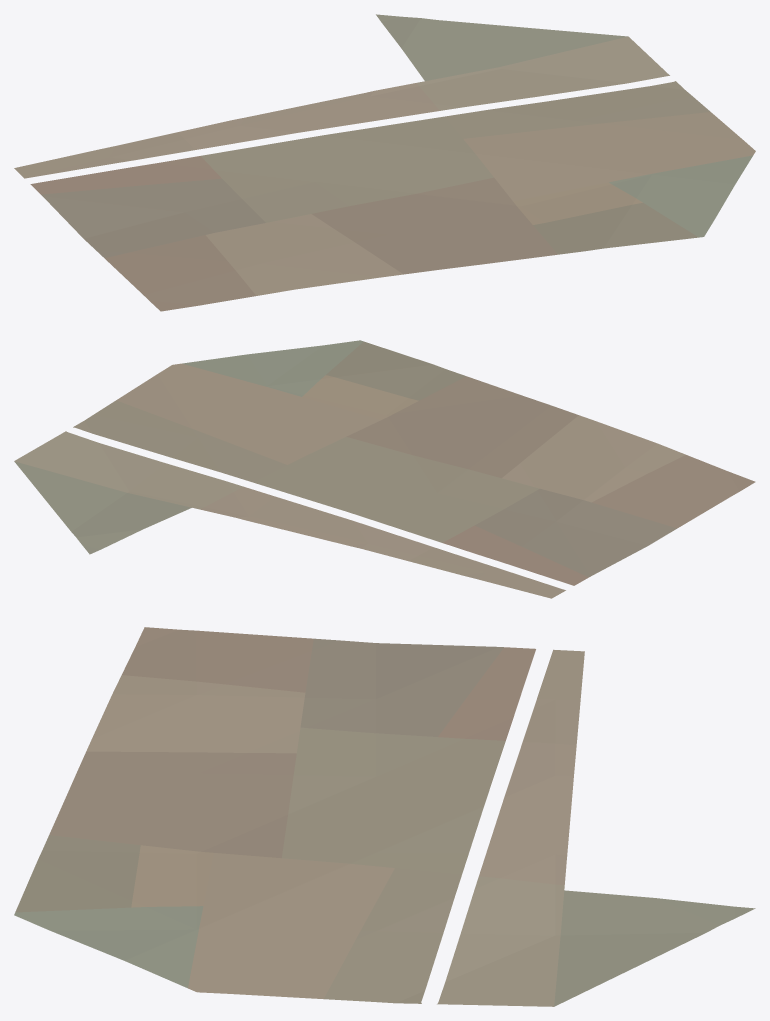
File: farm_16_18_soil.glb
3 views of the same model, one above another, from view 1: azimuth 30°, elevation 25°; view 2: azimuth 150°, elevation 25°; view 3: azimuth 270°, elevation 25° (orthographic). The views are drawn at different scales.
Visible parts, largest first — view 1: geometry_0; view 2: geometry_0; view 3: geometry_0.
Part boxes in pixels (box(x1,y1,x2,y2)): geometry_0: box(14, 14, 755, 311); geometry_0: box(14, 340, 755, 598); geometry_0: box(14, 627, 755, 1006).
Size of the model in its own units: 392 by 6.9 by 331.
